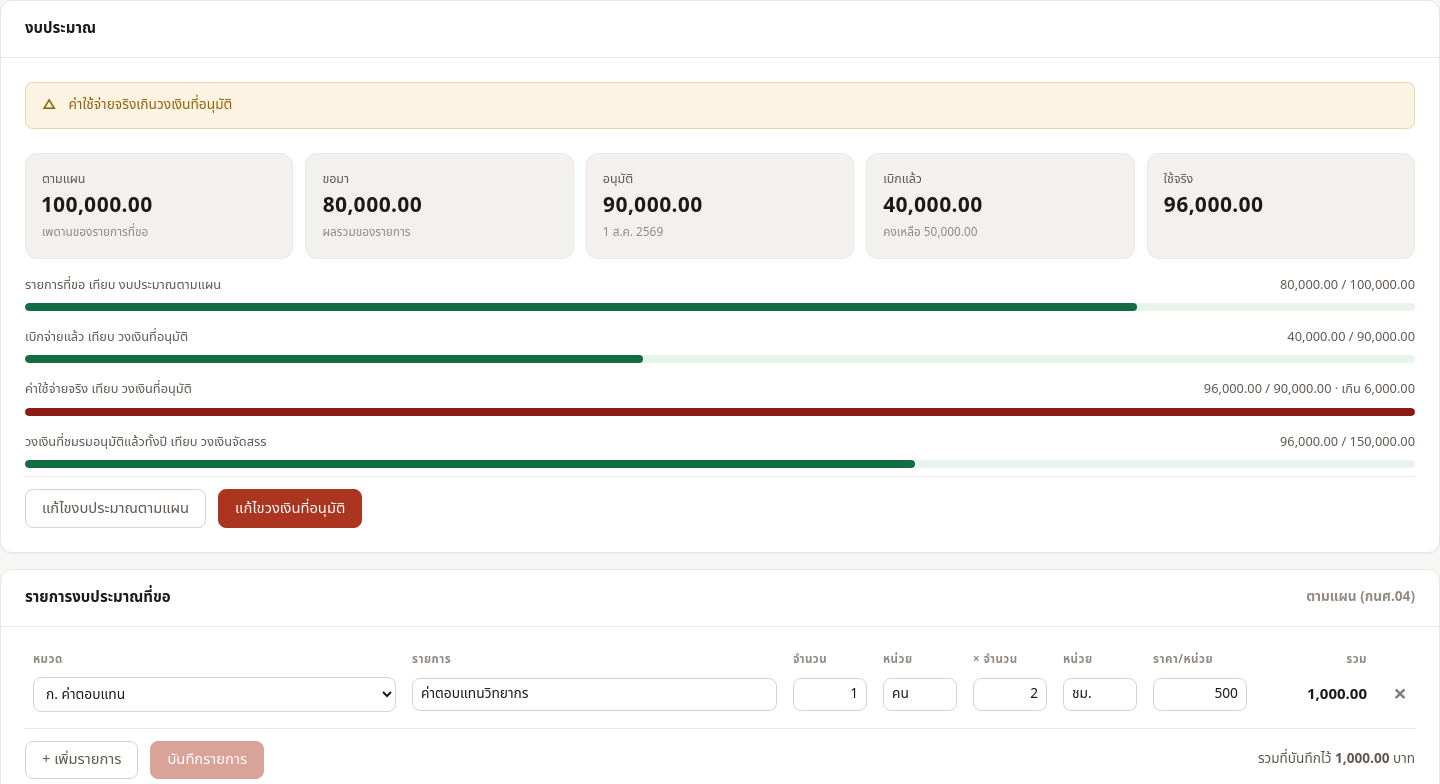
Test case: adds a blank row on "+ เพิ่มรายการ" and removes a row on its own delete button
The width and height of the screenshot is (1440, 784).
Expected: the 1st field showing "ค่าตอบแทนวิทยากร" is shown, [412, 678, 777, 711]
Click the button "+ เพิ่มรายการ" at coordinates (82, 760), box [25, 741, 138, 779]
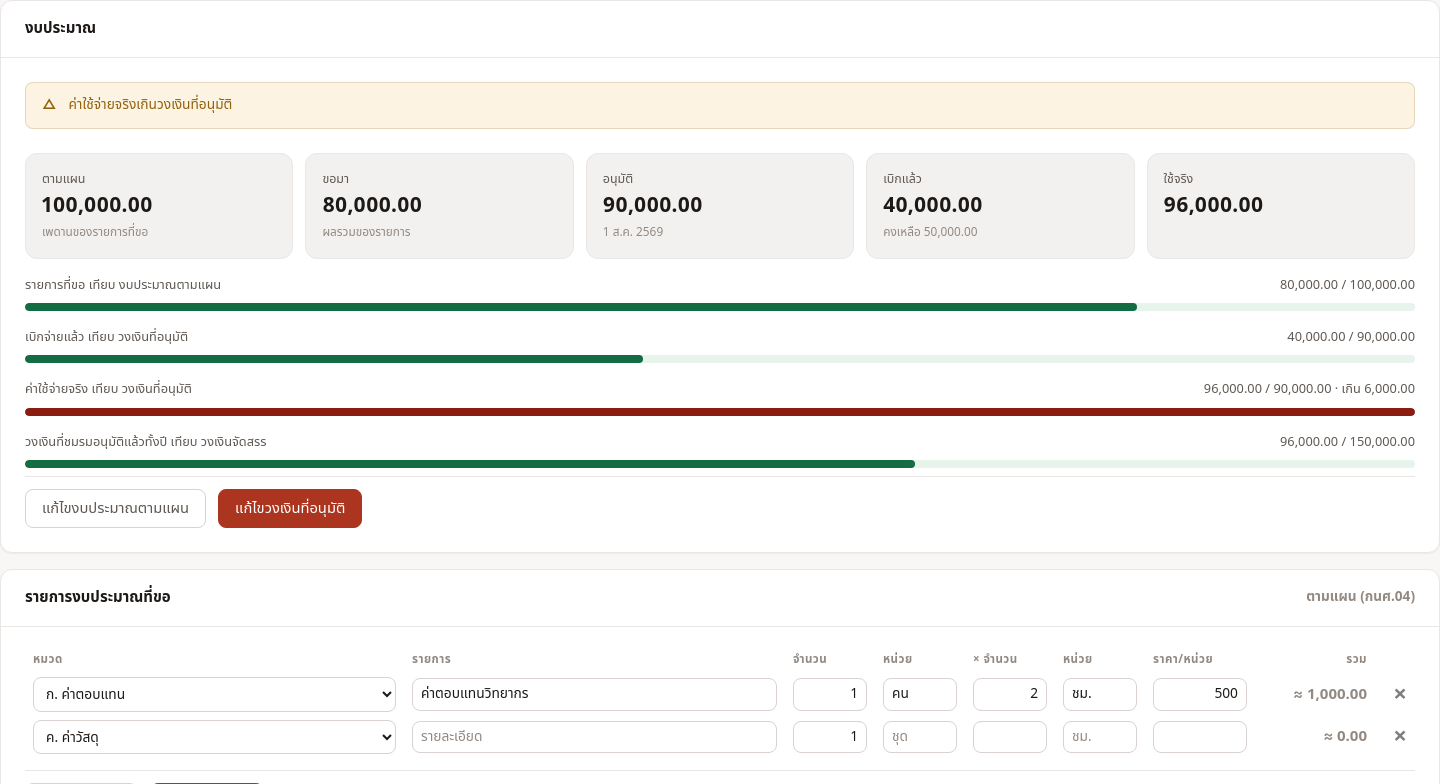
Expected: the number of buttons named "ลบรายการ" is 2
Click the button named "ลบรายการ" at coordinates (1400, 737), box [1393, 725, 1407, 749]
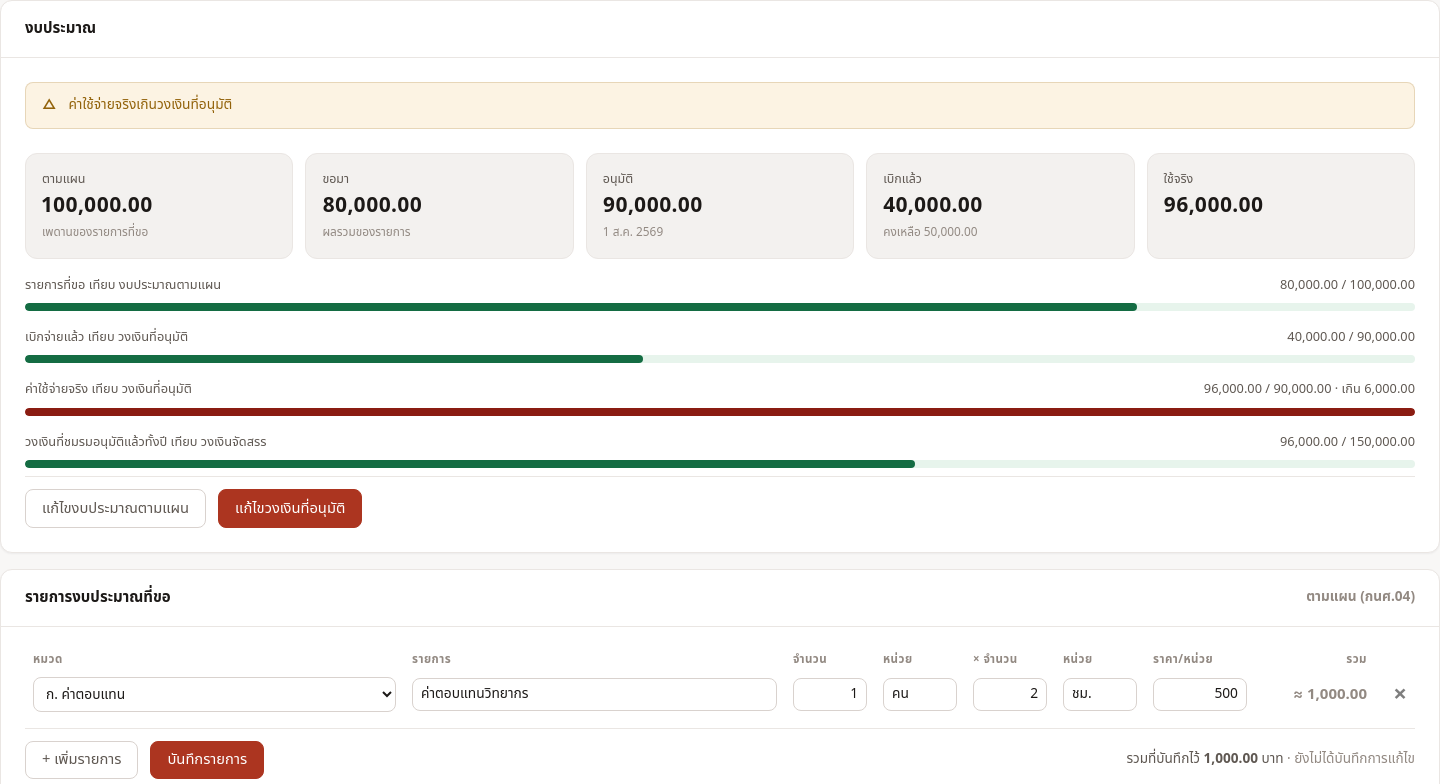
Expected: the number of buttons named "ลบรายการ" is 1, [1393, 682, 1407, 706]
